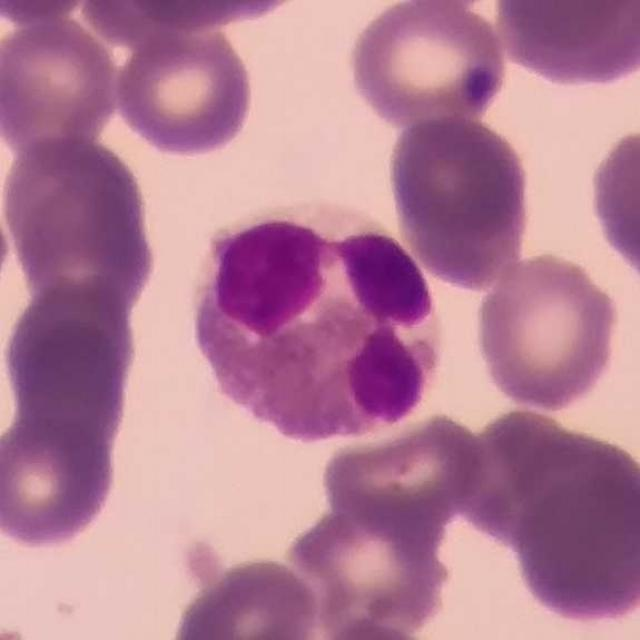Eosinophil: (193, 202, 446, 451)
RBC: (468, 412, 640, 574), (383, 109, 536, 291), (470, 247, 626, 414), (6, 141, 159, 310), (282, 495, 455, 637), (317, 408, 493, 536), (507, 461, 640, 629), (343, 1, 512, 127), (110, 22, 260, 160), (2, 300, 138, 438), (0, 408, 122, 553), (0, 11, 122, 155), (162, 551, 324, 640), (491, 0, 640, 89), (584, 120, 640, 292), (103, 0, 321, 33), (491, 1, 639, 37), (302, 616, 453, 640), (1, 0, 98, 26)
